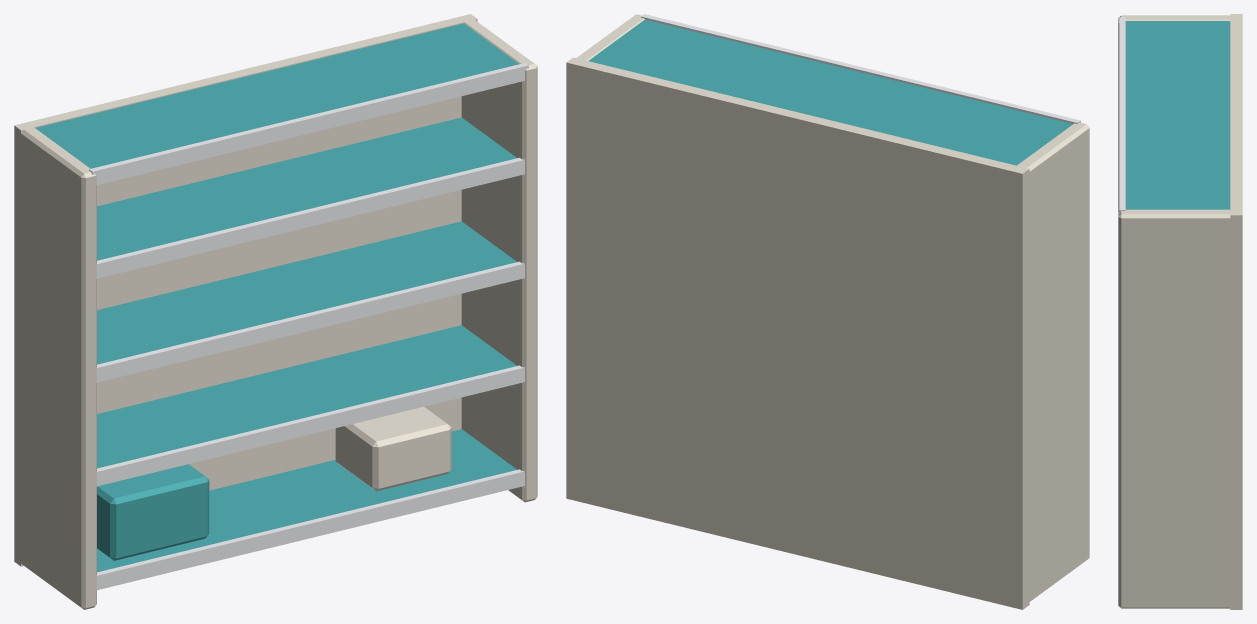
The model's file is lt_shelf_mp.glb.
The picture shows the model from 3 angles, left to right: view 1: azimuth 30°, elevation 25°; view 2: azimuth 150°, elevation 25°; view 3: azimuth 270°, elevation 25°; orthographic projection. The views are drawn at different scales.
Visible parts, largest first — view 1: lt_shelf_mp; view 2: lt_shelf_mp; view 3: lt_shelf_mp.
Boxes of the visible parts, x1=… form: lt_shelf_mp: x1=14, y1=14, x2=537, y2=609; lt_shelf_mp: x1=566, y1=14, x2=1089, y2=609; lt_shelf_mp: x1=1118, y1=14, x2=1242, y2=609.
Size of the model in its own units: 2.3 by 2.11 by 0.6.
